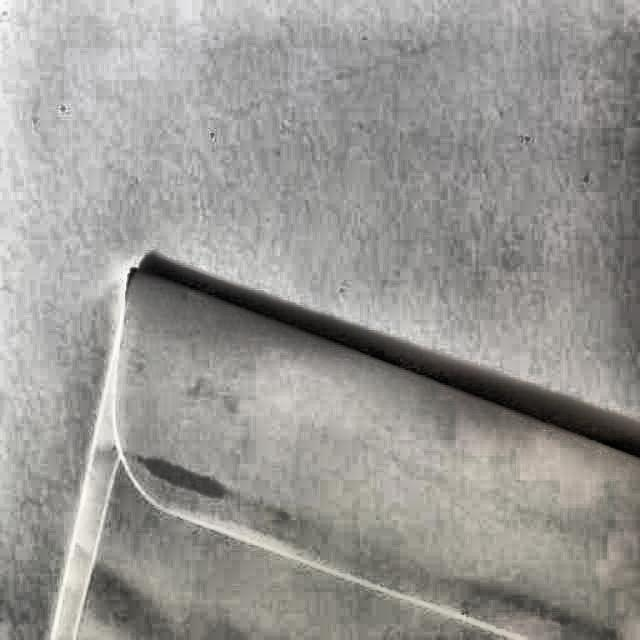Paper: (46, 267, 639, 638)
